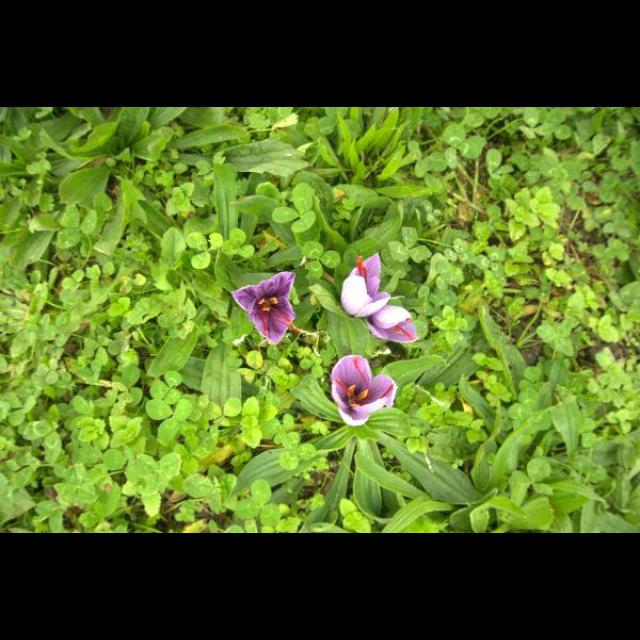flower: (232, 271, 300, 345), (332, 354, 398, 426), (340, 254, 390, 318), (364, 305, 420, 343)
